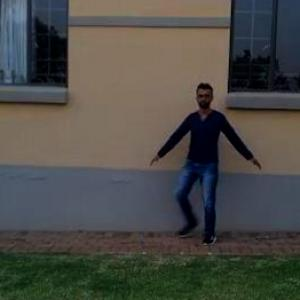land: (154, 87, 262, 253)
